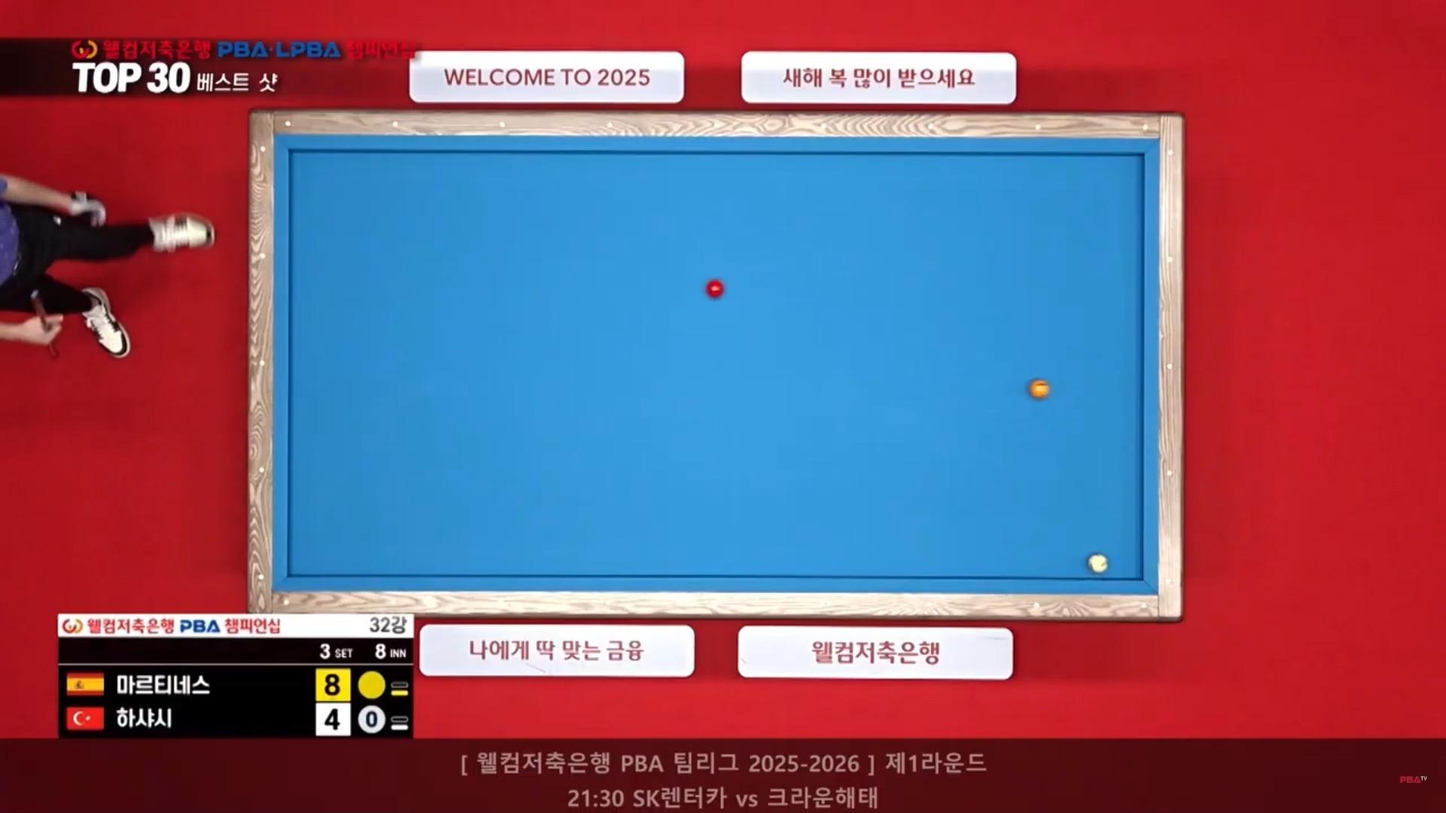Red: (705, 280, 728, 298)
White: (1088, 555, 1114, 575)
billiard-ball-Yellow: (1031, 375, 1051, 402)
